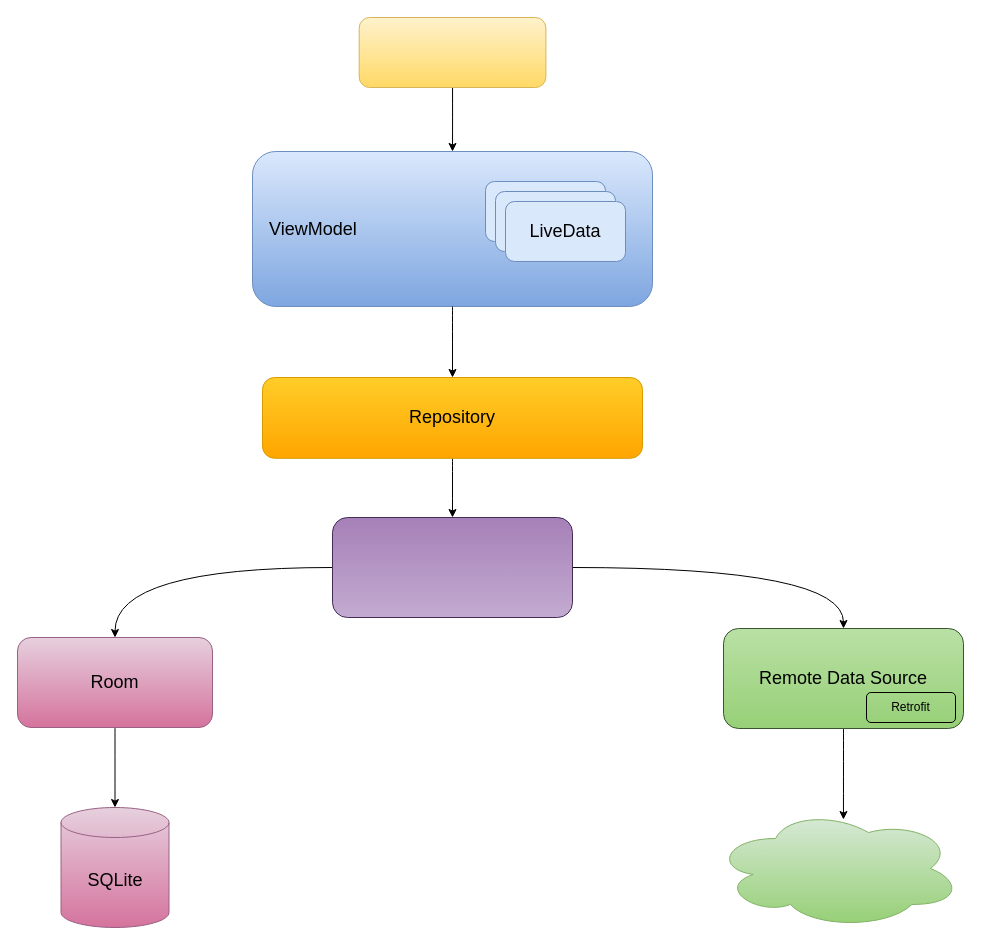
Image size: 981x946. Some labels were removed from this diagram. The shapes that lost their labels are listed below. From the top down, each one's box as (x1, y1, x2, y2) in pixels, then its label:
(358, 16, 546, 88): Activity/Fragment
(332, 516, 572, 618): Android FHIR SDK
(712, 808, 962, 928): FHIR Server
